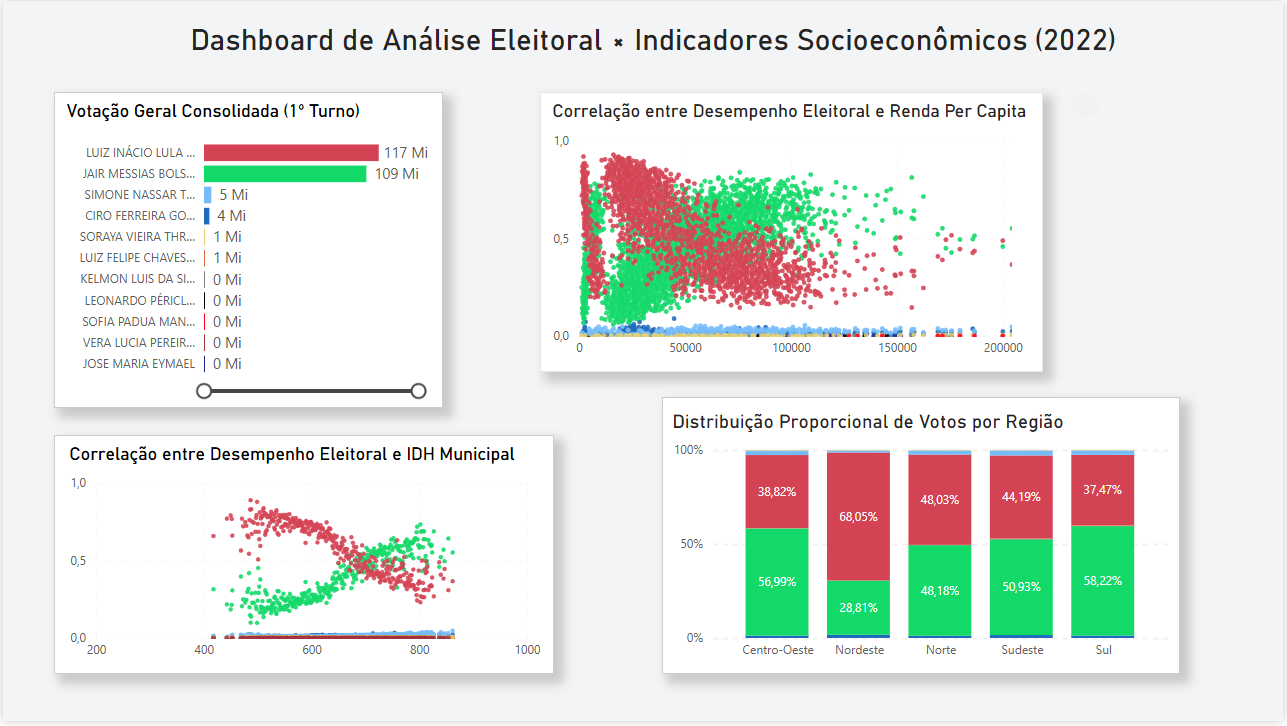

The page's visual inventory and layout, read from the dashboard file:
{"tool":"powerbi","page":{"name":"Principal","canvas":[1280,720],"ordinal":0},"visuals":[{"type":"barChart","title":"Votação Geral Consolidada (1º Turno)","fields":{"Category":["fato_votacao_socioeconomica_2022.Nome candidato"],"Y":["fato_votacao_socioeconomica_2022.Total Votos"]},"box":[51.4,91.4,388.6,315.7],"z":0},{"type":"scatterChart","title":"Correlação entre Desempenho Eleitoral e IDH Municipal","fields":{"Series":["fato_votacao_socioeconomica_2022.Nome candidato"],"Y":["fato_votacao_socioeconomica_2022.% Votos"],"X":["fato_votacao_socioeconomica_2022.IDH_tratado"]},"box":[51.4,434.3,500,238.6],"z":1000},{"type":"hundredPercentStackedColumnChart","title":"Distribuição Proporcional de Votos por Região","fields":{"Category":["fato_votacao_socioeconomica_2022.Regiao"],"Series":["fato_votacao_socioeconomica_2022.Nome candidato"],"Y":["fato_votacao_socioeconomica_2022.% Votos"]},"box":[658.6,395.7,518.6,277.1],"z":3000},{"type":"scatterChart","title":"Correlação entre Desempenho Eleitoral e Renda Per Capita","fields":{"X":["fato_votacao_socioeconomica_2022.renda_pc"],"Y":["fato_votacao_socioeconomica_2022.% Votos"],"Series":["fato_votacao_socioeconomica_2022.Nome candidato"]},"box":[537.1,91.4,502.9,280],"z":4000},{"type":"textbox","title":"Dashboard de Análise Eleitoral × Indicadores Socioeconômicos (2022)","box":[182.9,21.4,951.4,32.9],"z":4001},{"type":"actionButton","box":[1068.6,91.4,27.1,24.3],"z":4002}]}

Visuals, with their boxes in screenshot pixels (x1, y1, x2, y2), scaled from the page's 1280x720 canvas onto the 1287x726 screenshot:
"Votação Geral Consolidada (1º Turno)" barChart: l=52, t=92, r=442, b=410
"Correlação entre Desempenho Eleitoral e IDH Municipal" scatterChart: l=52, t=438, r=554, b=679
"Distribuição Proporcional de Votos por Região" hundredPercentStackedColumnChart: l=662, t=399, r=1184, b=678
"Correlação entre Desempenho Eleitoral e Renda Per Capita" scatterChart: l=540, t=92, r=1046, b=374
"Dashboard de Análise Eleitoral × Indicadores Socioeconômicos (2022)" textbox: l=184, t=22, r=1141, b=55
actionButton: l=1074, t=92, r=1102, b=117
